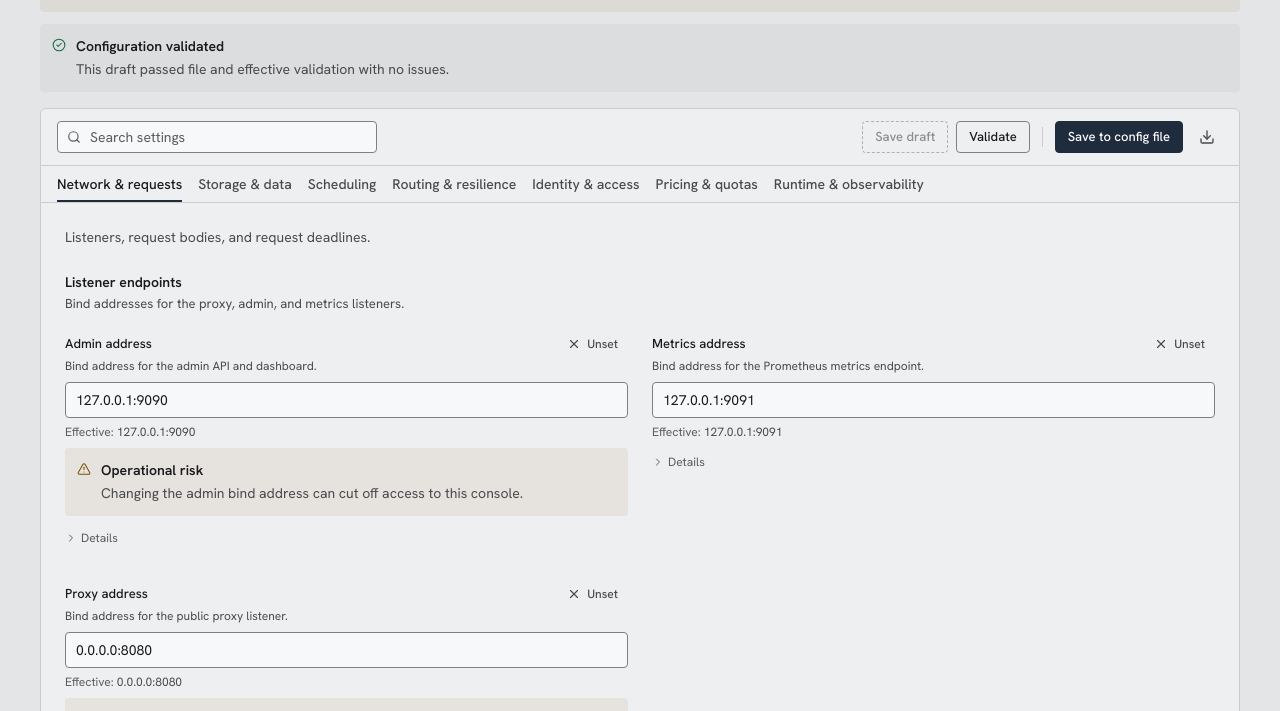
Test case: an invalid address shows an inline error on blur that clears once valid
(page scrolled)
Replace the text in the field labelled "Admin address" with "not-an-address" at {"x": 346, "y": 400}, box 65,382 -> 628,418
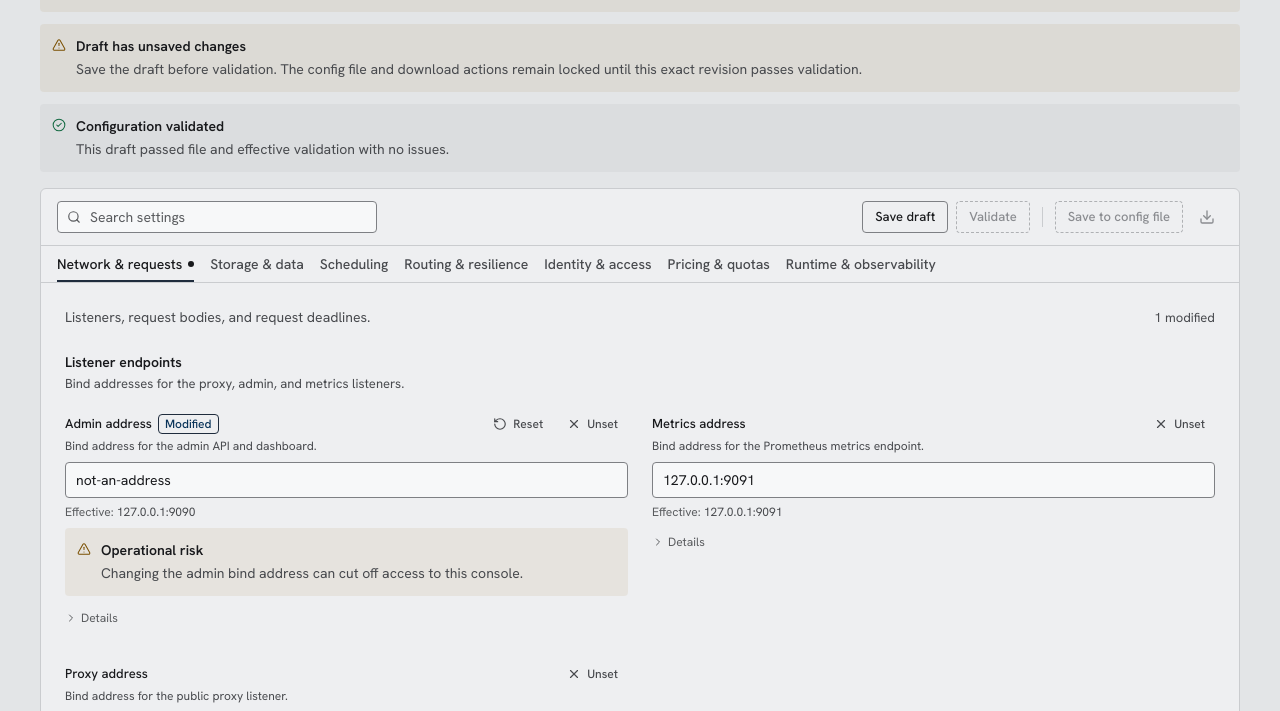
Expected: the text "Enter host:port" is not shown
Leave the field labelled "Admin address", box 65,462 -> 628,498
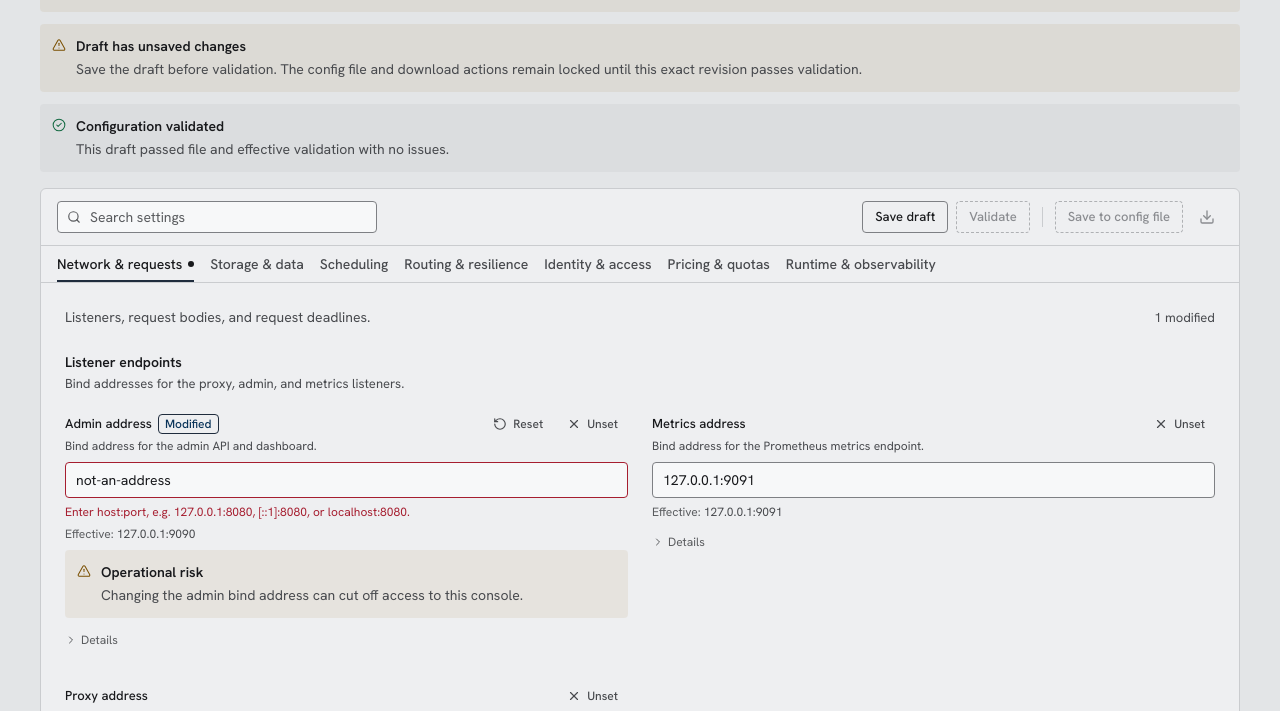
Replace the text in the field labelled "Admin address" with "127.0.0.1:9191" at {"x": 346, "y": 480}, box 65,462 -> 628,498
(page scrolled)
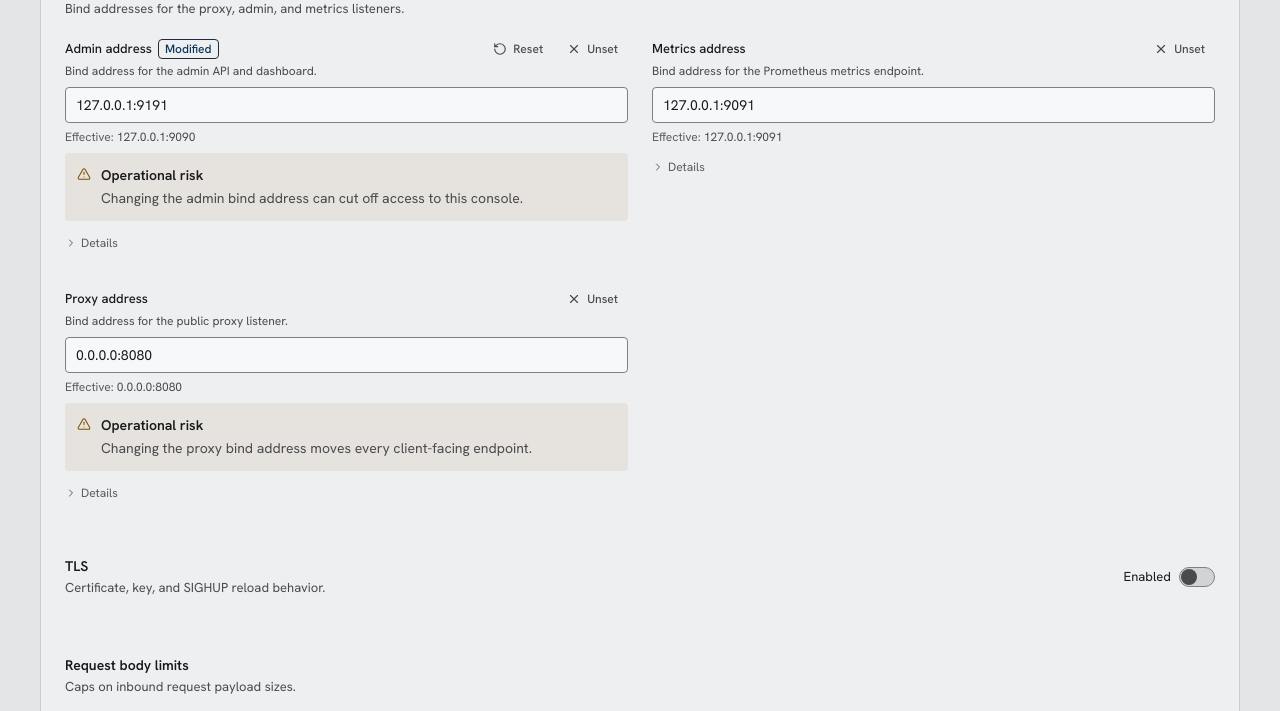
Expected: the element that starts with "Proxy address" is shown, 65,285 -> 628,515
Result: the text "Enter host:port" is gone
